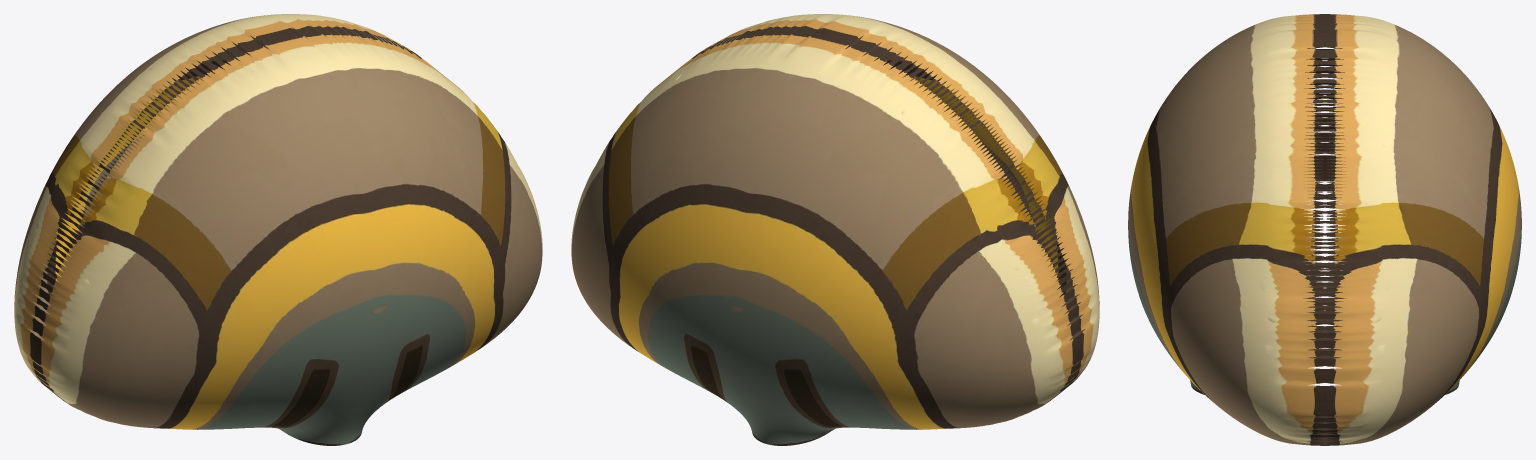
The model's file is rim_housing.glb.
3 views of the same model, side by side, from view 1: azimuth 30°, elevation 25°; view 2: azimuth 150°, elevation 25°; view 3: azimuth 270°, elevation 25° (orthographic). The views are drawn at different scales.
Parts seen in each view (by area): view 1: rim_housing; view 2: rim_housing; view 3: rim_housing.
Boxes of the visible parts, <box> form: rim_housing: <box>14,14,542,445</box>; rim_housing: <box>571,14,1099,445</box>; rim_housing: <box>1128,14,1521,445</box>.
Bounding box in the file's own units: 0.9889 × 0.6944 × 0.7129.
1 material, 1 textured.
